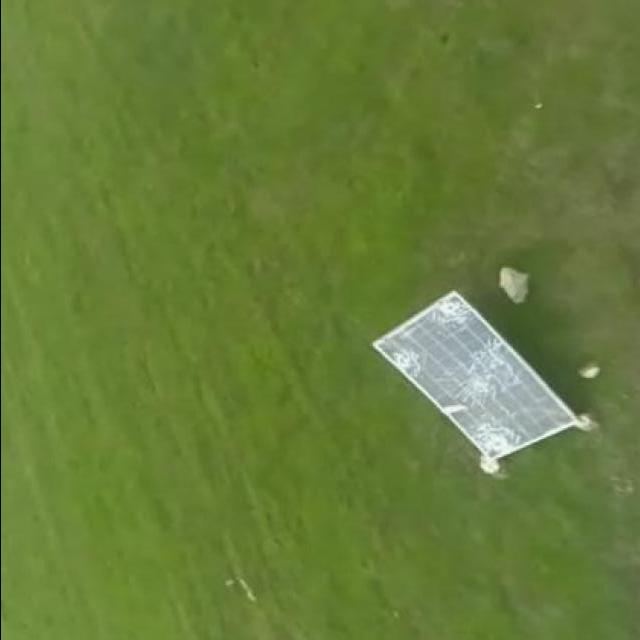cracked: (366, 288, 580, 474)
